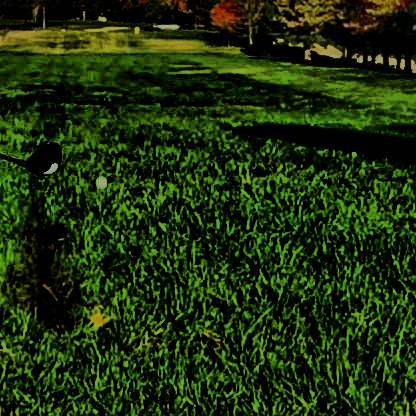golfball: (92, 171, 106, 186)
